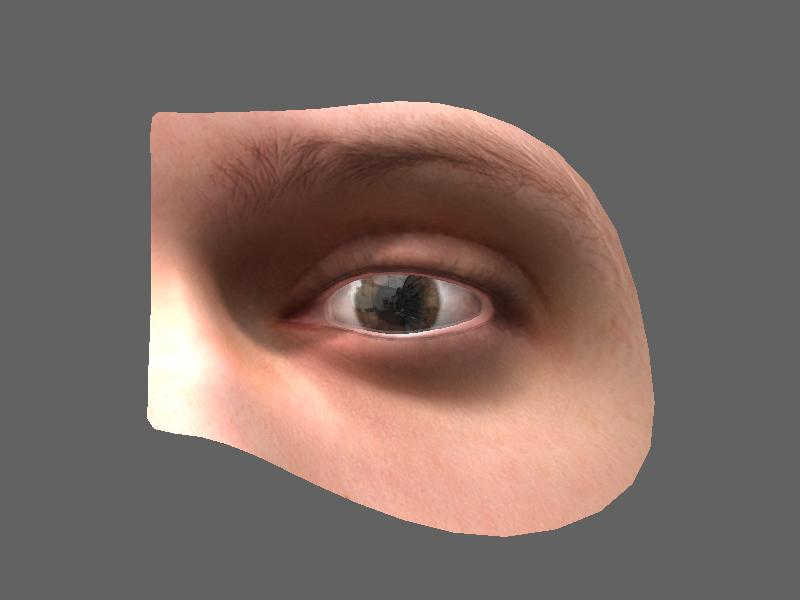iris: (351, 281, 446, 334)
